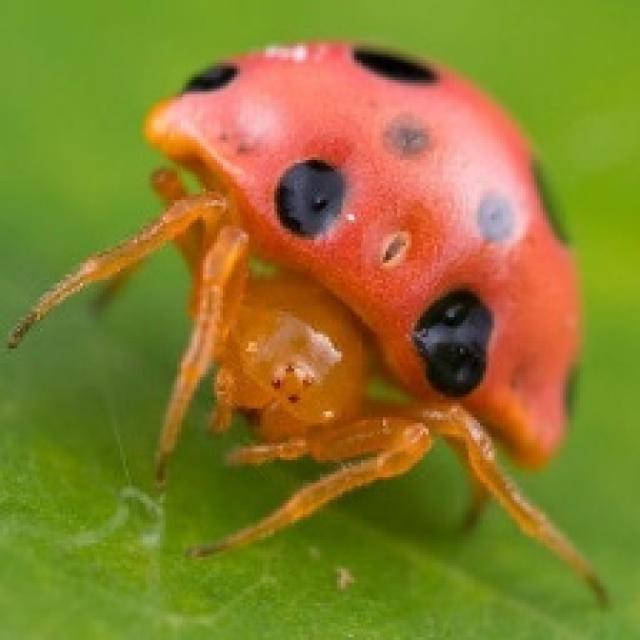Non venomous spider: (54, 22, 598, 564)
